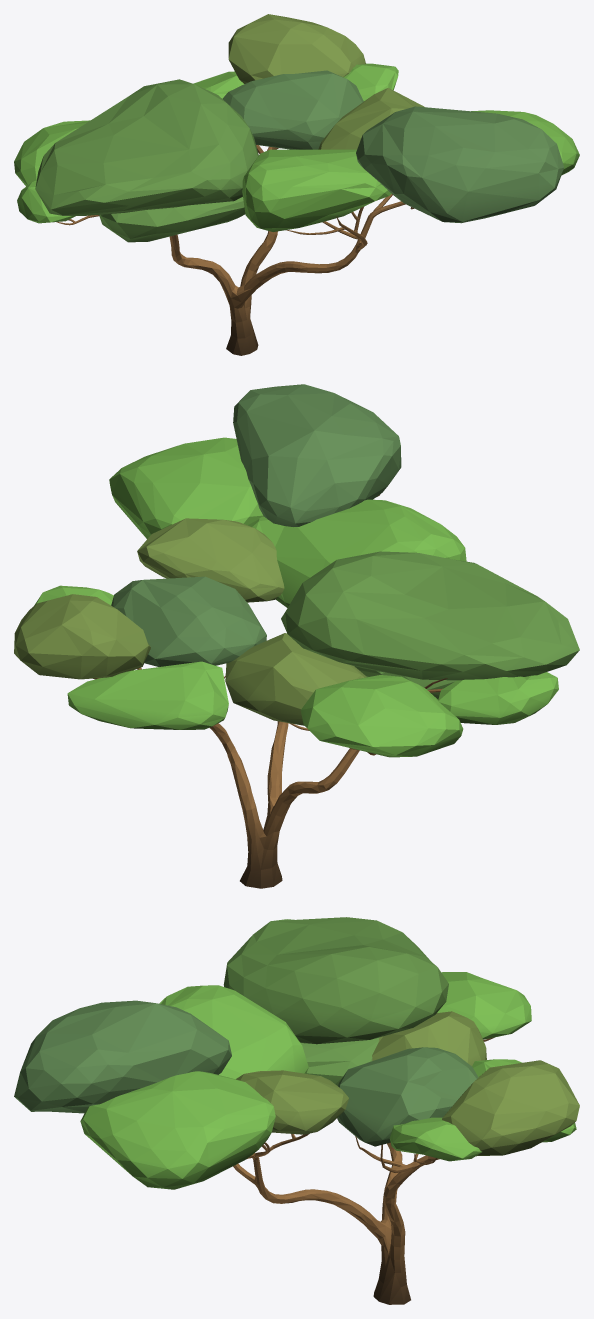
The model's file is JungleTree_Lrg_C.fbx.
3 views of the same model, one above another, from view 1: azimuth 30°, elevation 25°; view 2: azimuth 150°, elevation 25°; view 3: azimuth 270°, elevation 25° (orthographic). The views are drawn at different scales.
Visible parts, largest first — view 1: JungleTree_Lrg_C; view 2: JungleTree_Lrg_C; view 3: JungleTree_Lrg_C.
Boxes of the visible parts, x1=… form: JungleTree_Lrg_C: x1=14, y1=14, x2=579, y2=355; JungleTree_Lrg_C: x1=14, y1=384, x2=579, y2=888; JungleTree_Lrg_C: x1=14, y1=917, x2=579, y2=1304.
Size of the model in its own units: 20.61 by 12.73 by 19.94.
Materials: 1 (1 with a texture image).
